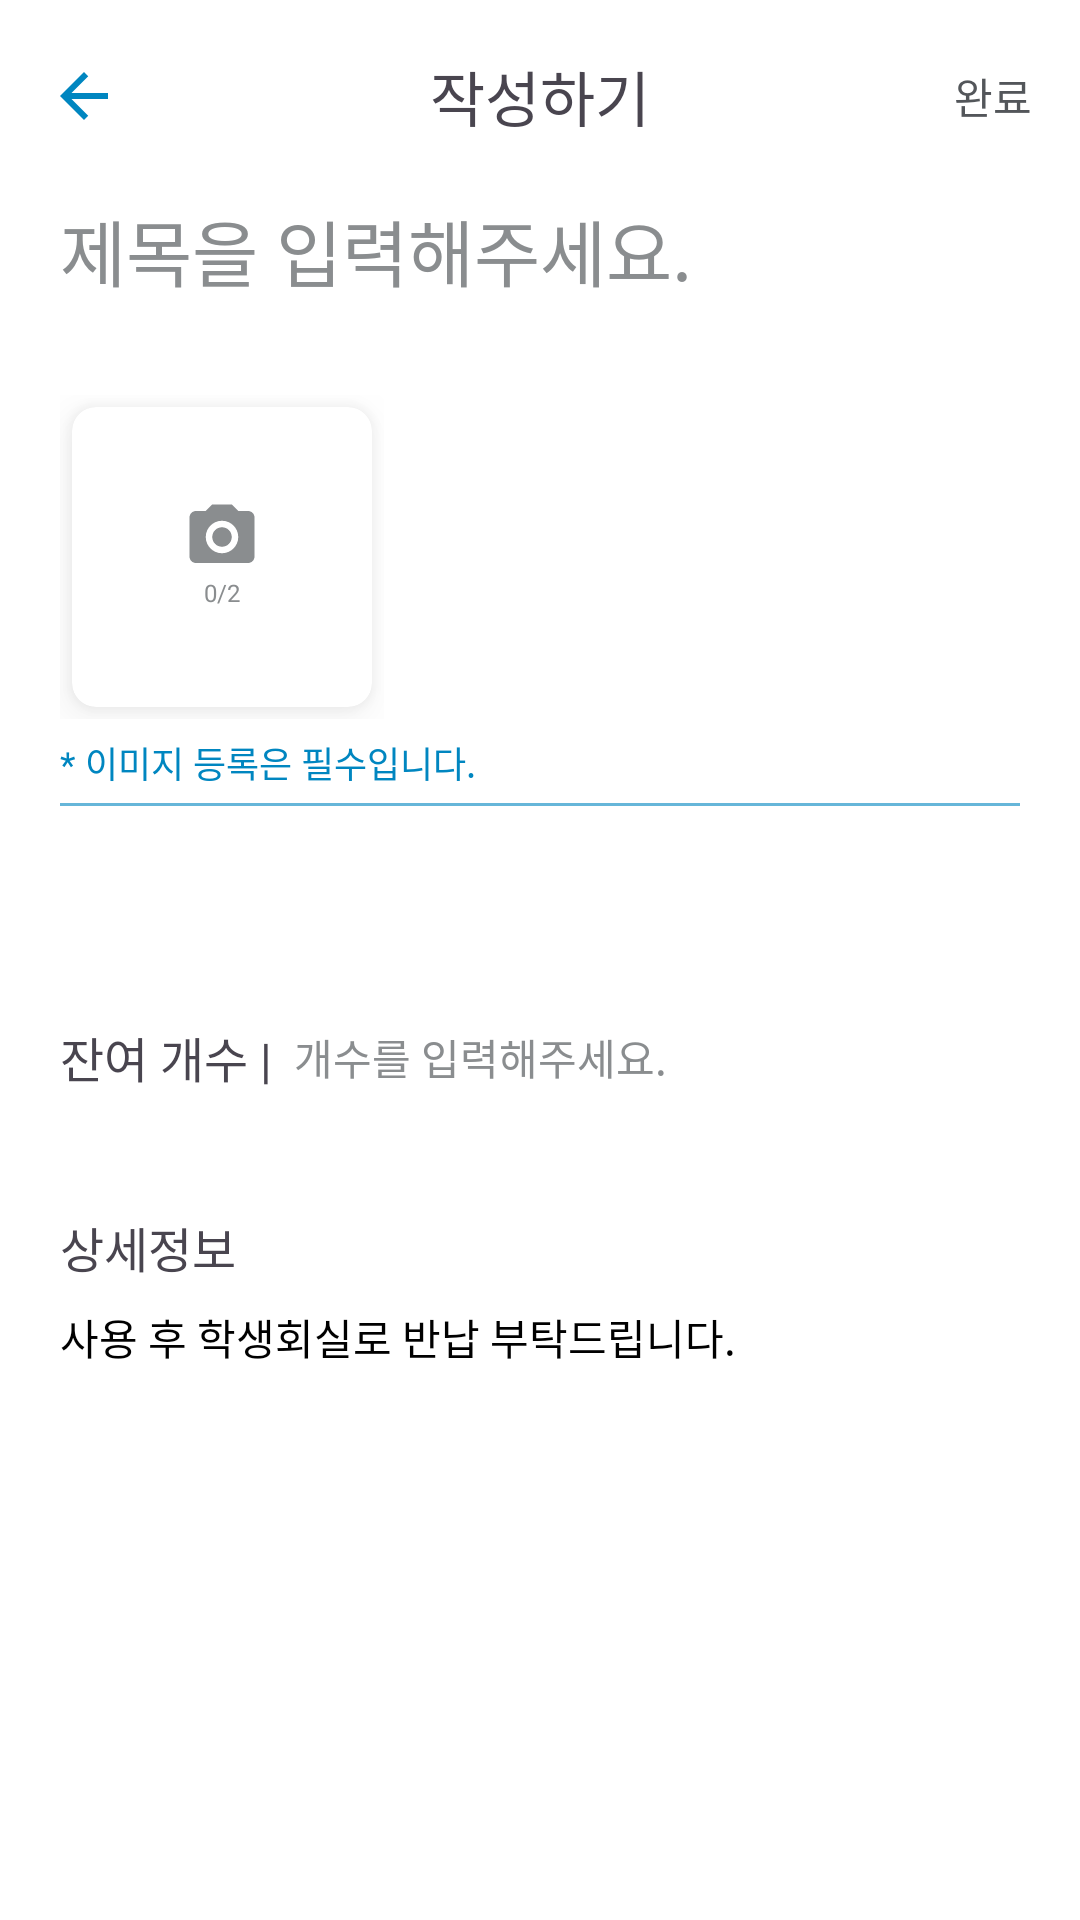

Icons on this 1080 × 1920 Android screen, each with the point to tap as point (x, y):
back: point (84, 96)
camera: point (222, 533)
